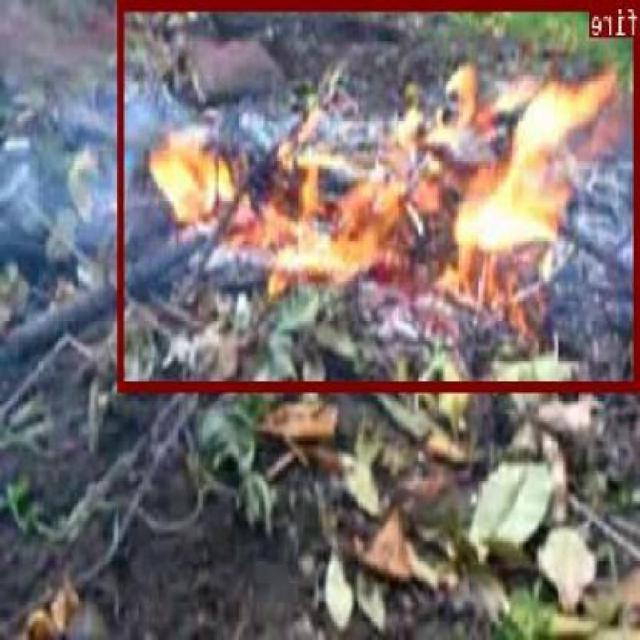Fire: (118, 0, 640, 388)
